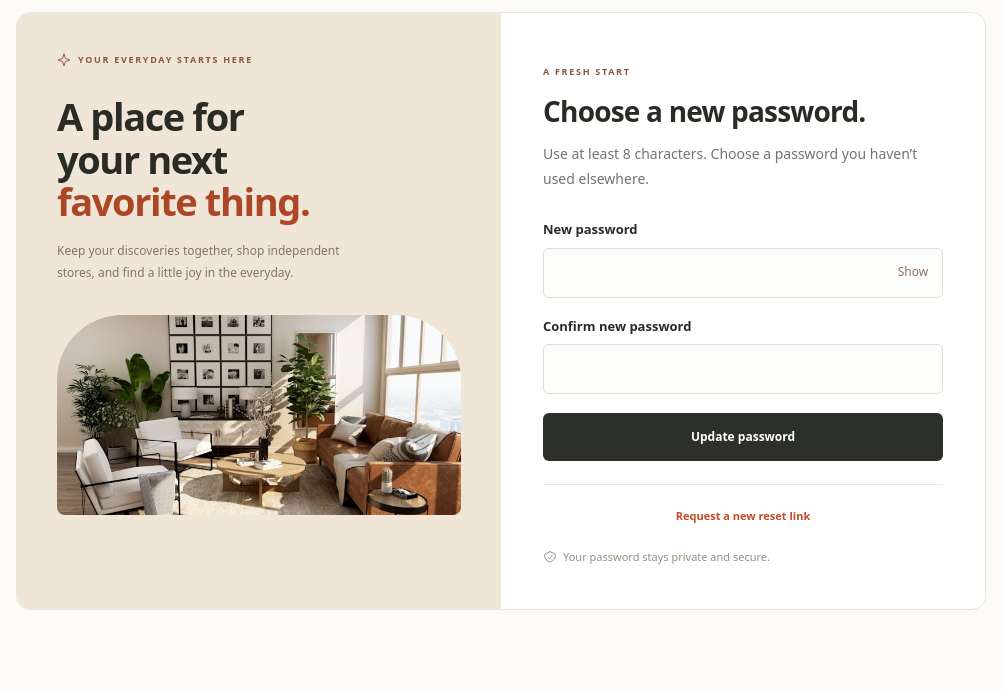
Scenario: account email flows › prevents password mismatch and clears the session only after a successful reset
Type "Replacement123!" into the password field labelled "New password".
click(743, 273); type("Replacement123!")  # box 543,248 -> 943,298
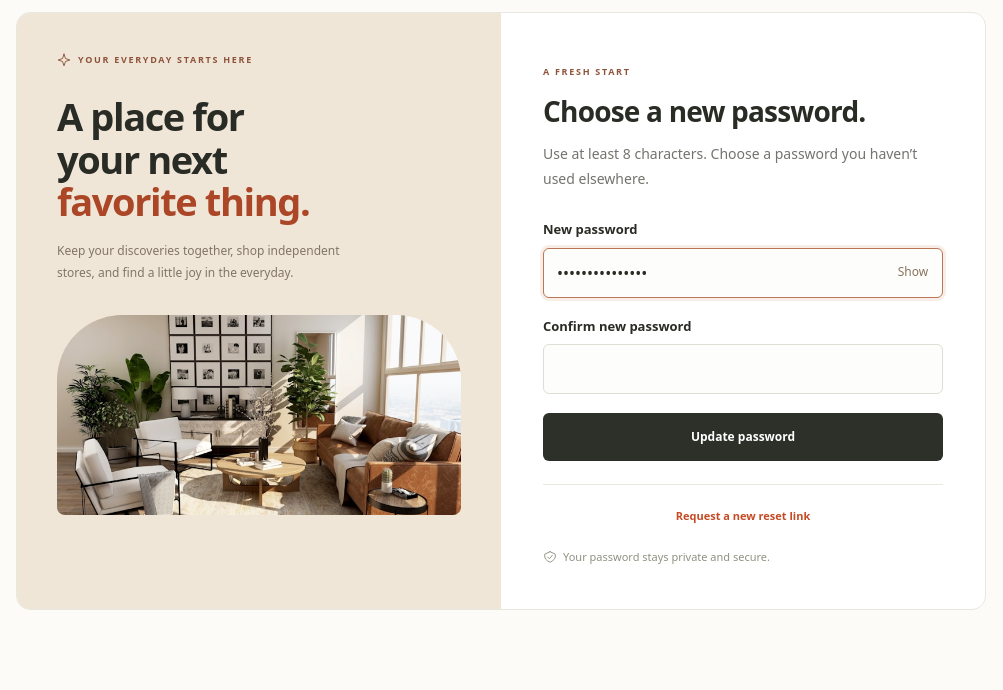
Type "Mismatch123!" into the password field labelled "Confirm new password".
click(743, 369); type("Mismatch123!")  # box 543,344 -> 943,394
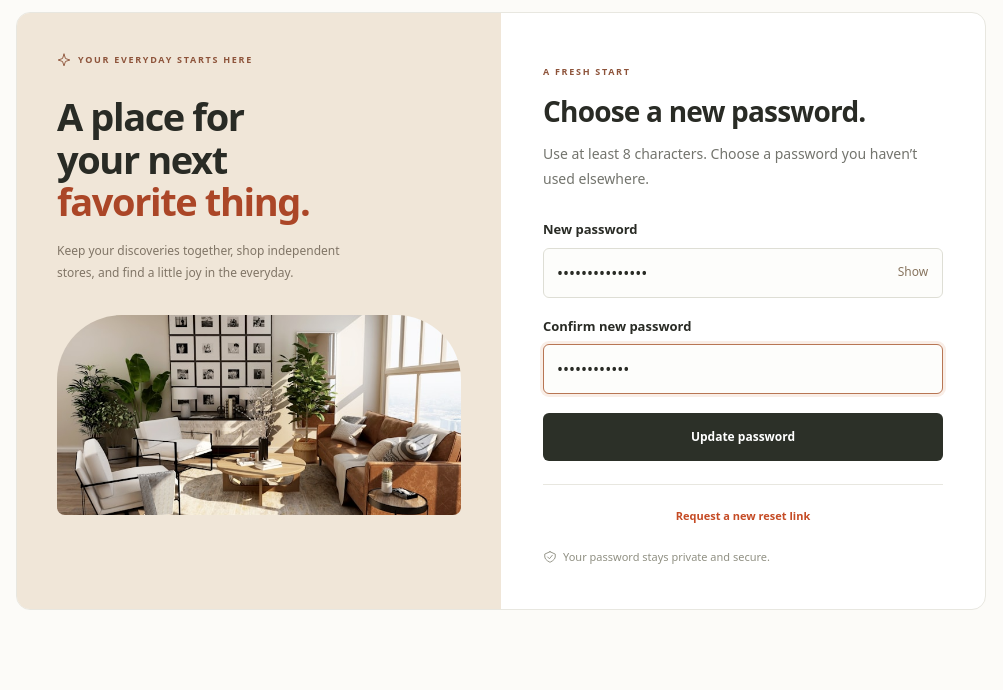
Click the button "Update password".
click(743, 437)  # box 543,413 -> 943,461
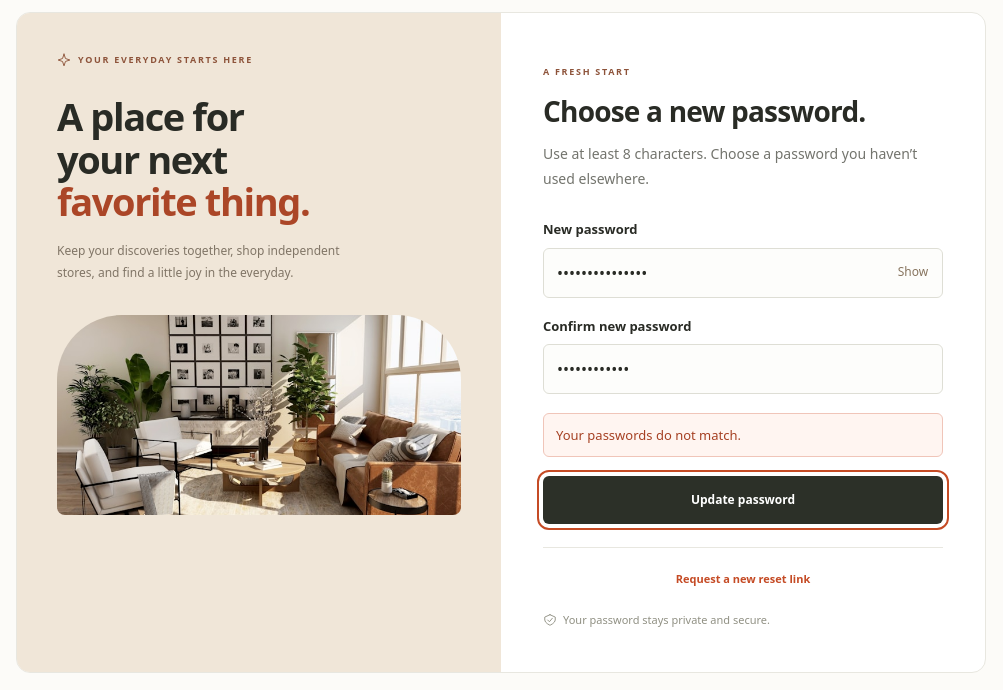
Check: the message shows "do not match", box 556,426 -> 741,444
Type "Replacement123!" into the password field labelled "Confirm new password".
click(743, 369); type("Replacement123!")  # box 543,344 -> 943,394
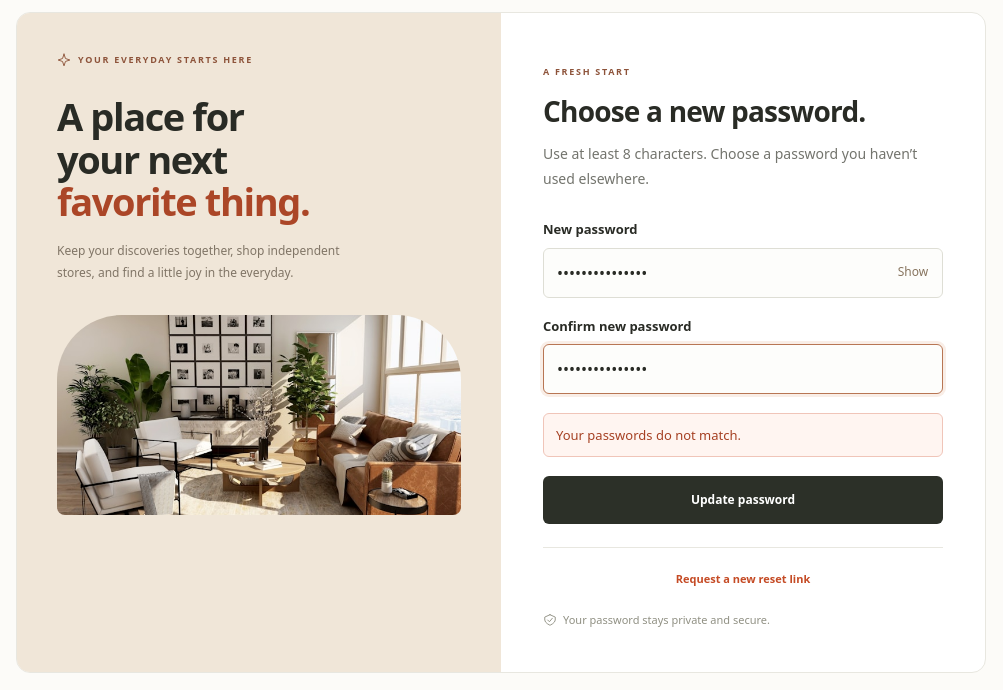
Click the button "Update password".
click(743, 500)  # box 543,476 -> 943,524
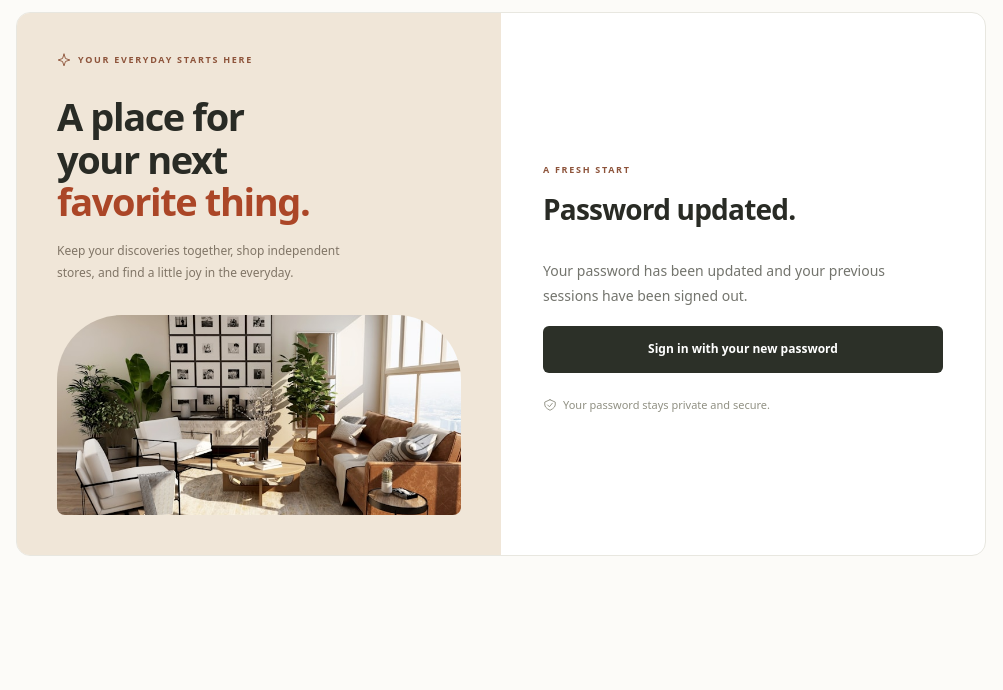
Check: the heading "Password updated." is shown, box 543,190 -> 795,228
